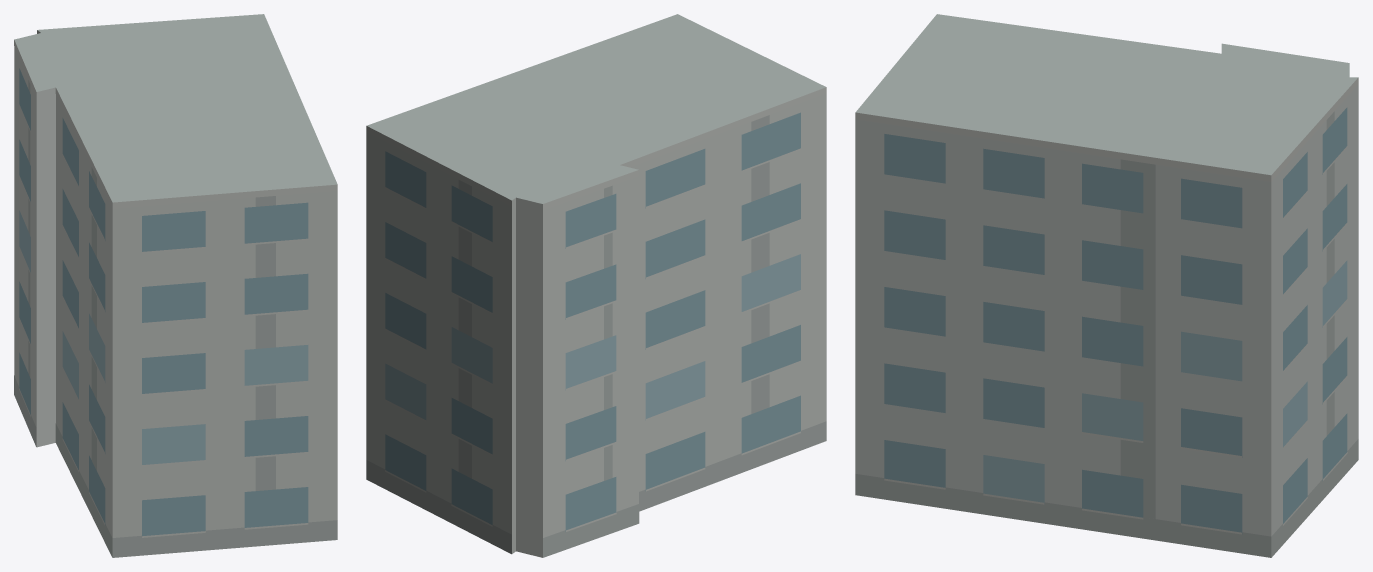
File: survey-upis-32885788.glb
3 views of the same model, side by side, from view 1: azimuth 30°, elevation 25°; view 2: azimuth 150°, elevation 25°; view 3: azimuth 270°, elevation 25° (orthographic). The views are drawn at different scales.
Visible parts, largest first — view 1: survey-upis-32885788.tmp; view 2: survey-upis-32885788.tmp; view 3: survey-upis-32885788.tmp.
Boxes of the visible parts, x1,y1,x2,y2 form: survey-upis-32885788.tmp: (14, 14, 337, 557); survey-upis-32885788.tmp: (366, 14, 826, 557); survey-upis-32885788.tmp: (855, 14, 1358, 557).
Size of the model in its own units: 12.26 by 13.55 by 16.16.
